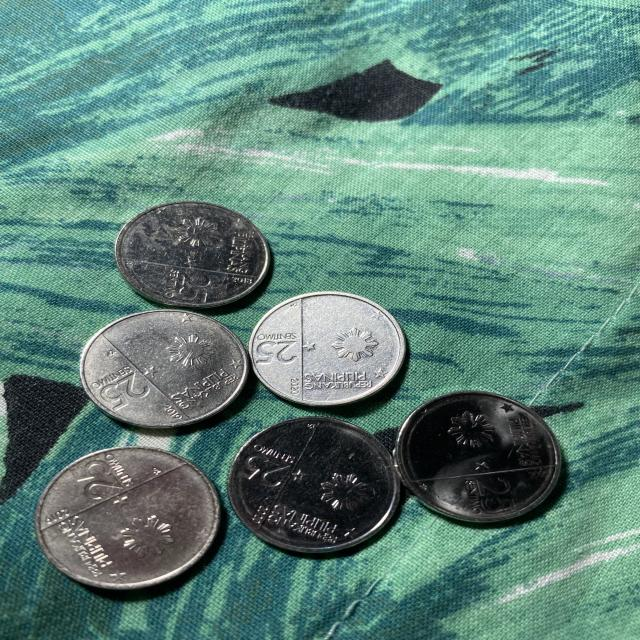25Cent_New_Front: (68, 458, 121, 500), (471, 473, 520, 515), (99, 372, 151, 409), (236, 453, 288, 488), (173, 270, 214, 304), (251, 340, 299, 368)
